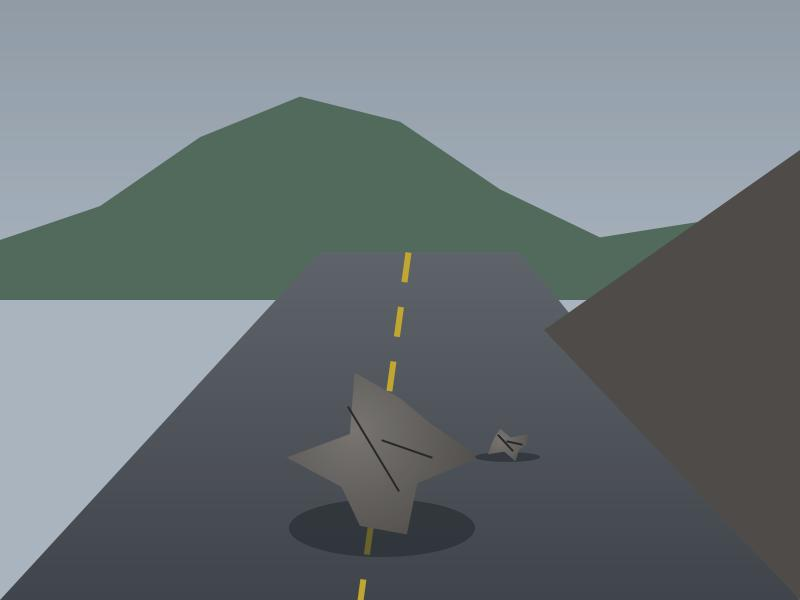ROAD_OBSTACLE: (299, 374, 465, 541), (485, 429, 530, 460)
